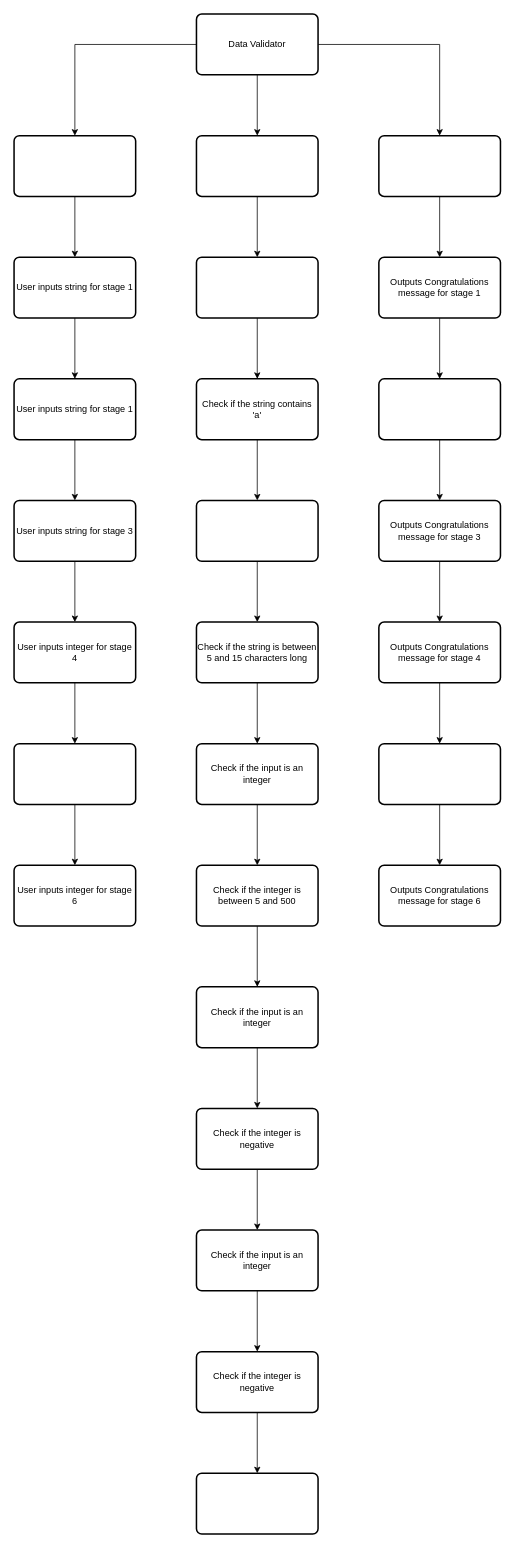
The diagram is 514 pixels wide and 1547 high, and some of its shapes have lost their labels. Here are the shapes that lost their labels. From the top down, the centre of each, then its label:
At [74,166]: "Input".
At [256,166]: "Process".
At [439,166]: "Output".
At [256,287]: "Checks if a string is longer than 6 characters".
At [439,409]: "Outputs Congratulations message for stage 2".
At [256,530]: "Check if z is in the string".
At [74,774]: "User inputs integer for stage 5".
At [439,774]: "Outputs Congratulations message for stage 5".
At [256,1503]: "Check if the integer is odd".
